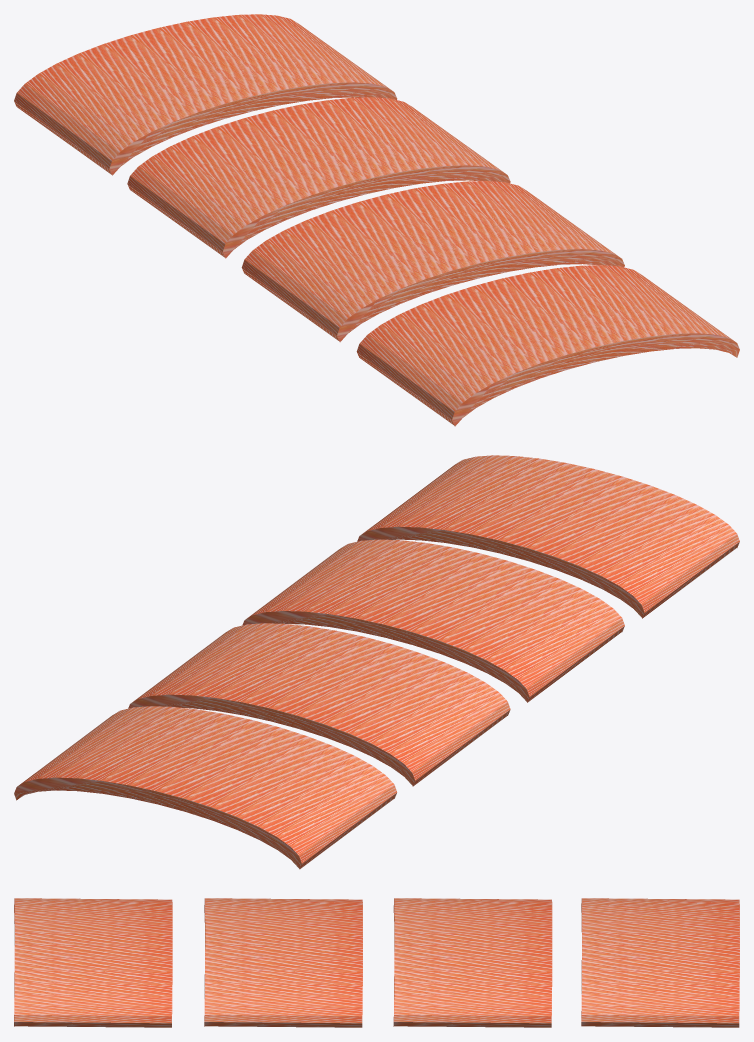
The model's file is gesnedenZalm.obj.
3 renders of one model, top to bottom at view 1: azimuth 30°, elevation 25°; view 2: azimuth 150°, elevation 25°; view 3: azimuth 270°, elevation 25°, orthographic. The views are drawn at different scales.
Parts seen in each view (by area): view 1: Cylinder.003, Cylinder.002, Cylinder.001, Cylinder; view 2: Cylinder, Cylinder.003, Cylinder.002, Cylinder.001; view 3: Cylinder.003, Cylinder.001, Cylinder, Cylinder.002.
Boxes of the visible parts, x1,y1,x2,y2 form: Cylinder.003: (356, 265, 739, 426); Cylinder.002: (241, 181, 624, 342); Cylinder.001: (127, 97, 510, 258); Cylinder: (14, 14, 397, 175); Cylinder: (14, 706, 397, 869); Cylinder.003: (357, 455, 739, 618); Cylinder.002: (242, 539, 624, 702); Cylinder.001: (128, 623, 510, 786); Cylinder.003: (14, 898, 172, 1027); Cylinder.001: (393, 898, 552, 1027); Cylinder: (581, 898, 739, 1027); Cylinder.002: (204, 898, 362, 1027).
Bounding box in the file's own units: 0.4243 × 0.0642 × 1.12.
Materials: 1 (1 with a texture image).
